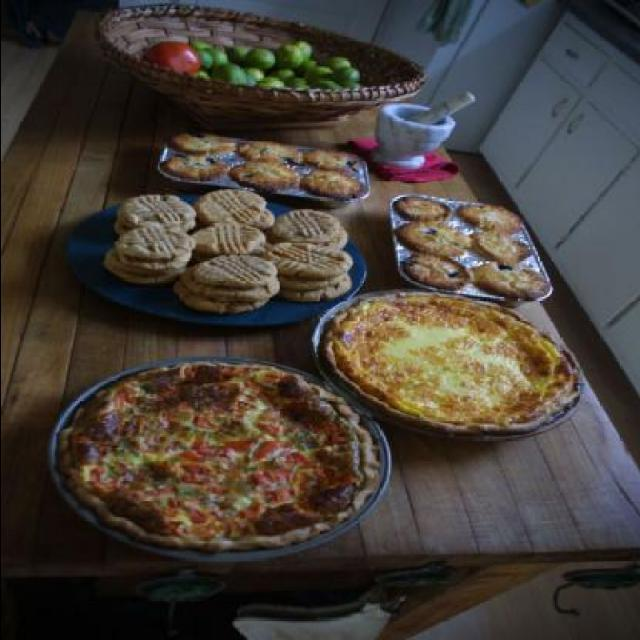Cookie: (98, 184, 350, 318)
